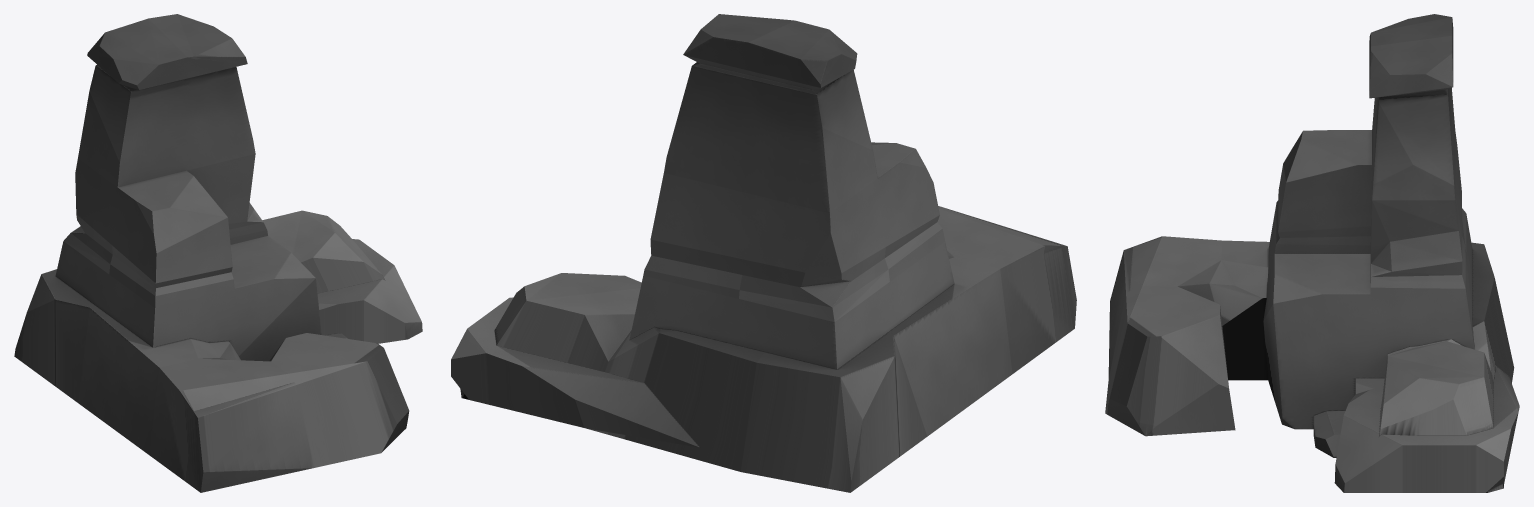
File: rock7.glb
The picture shows the model from 3 angles, left to right: view 1: azimuth 30°, elevation 25°; view 2: azimuth 150°, elevation 25°; view 3: azimuth 270°, elevation 25°; orthographic projection. The views are drawn at different scales.
Visible parts, largest first — view 1: rock_big02; view 2: rock_big02; view 3: rock_big02.
Boxes of the visible parts, x1,y1,x2,y2 form: rock_big02: [14, 14, 422, 492]; rock_big02: [451, 14, 1076, 492]; rock_big02: [1105, 14, 1519, 492].
Size of the model in its own units: 6 by 5.69 by 6.22.
Materials: 1 (1 with a texture image).
